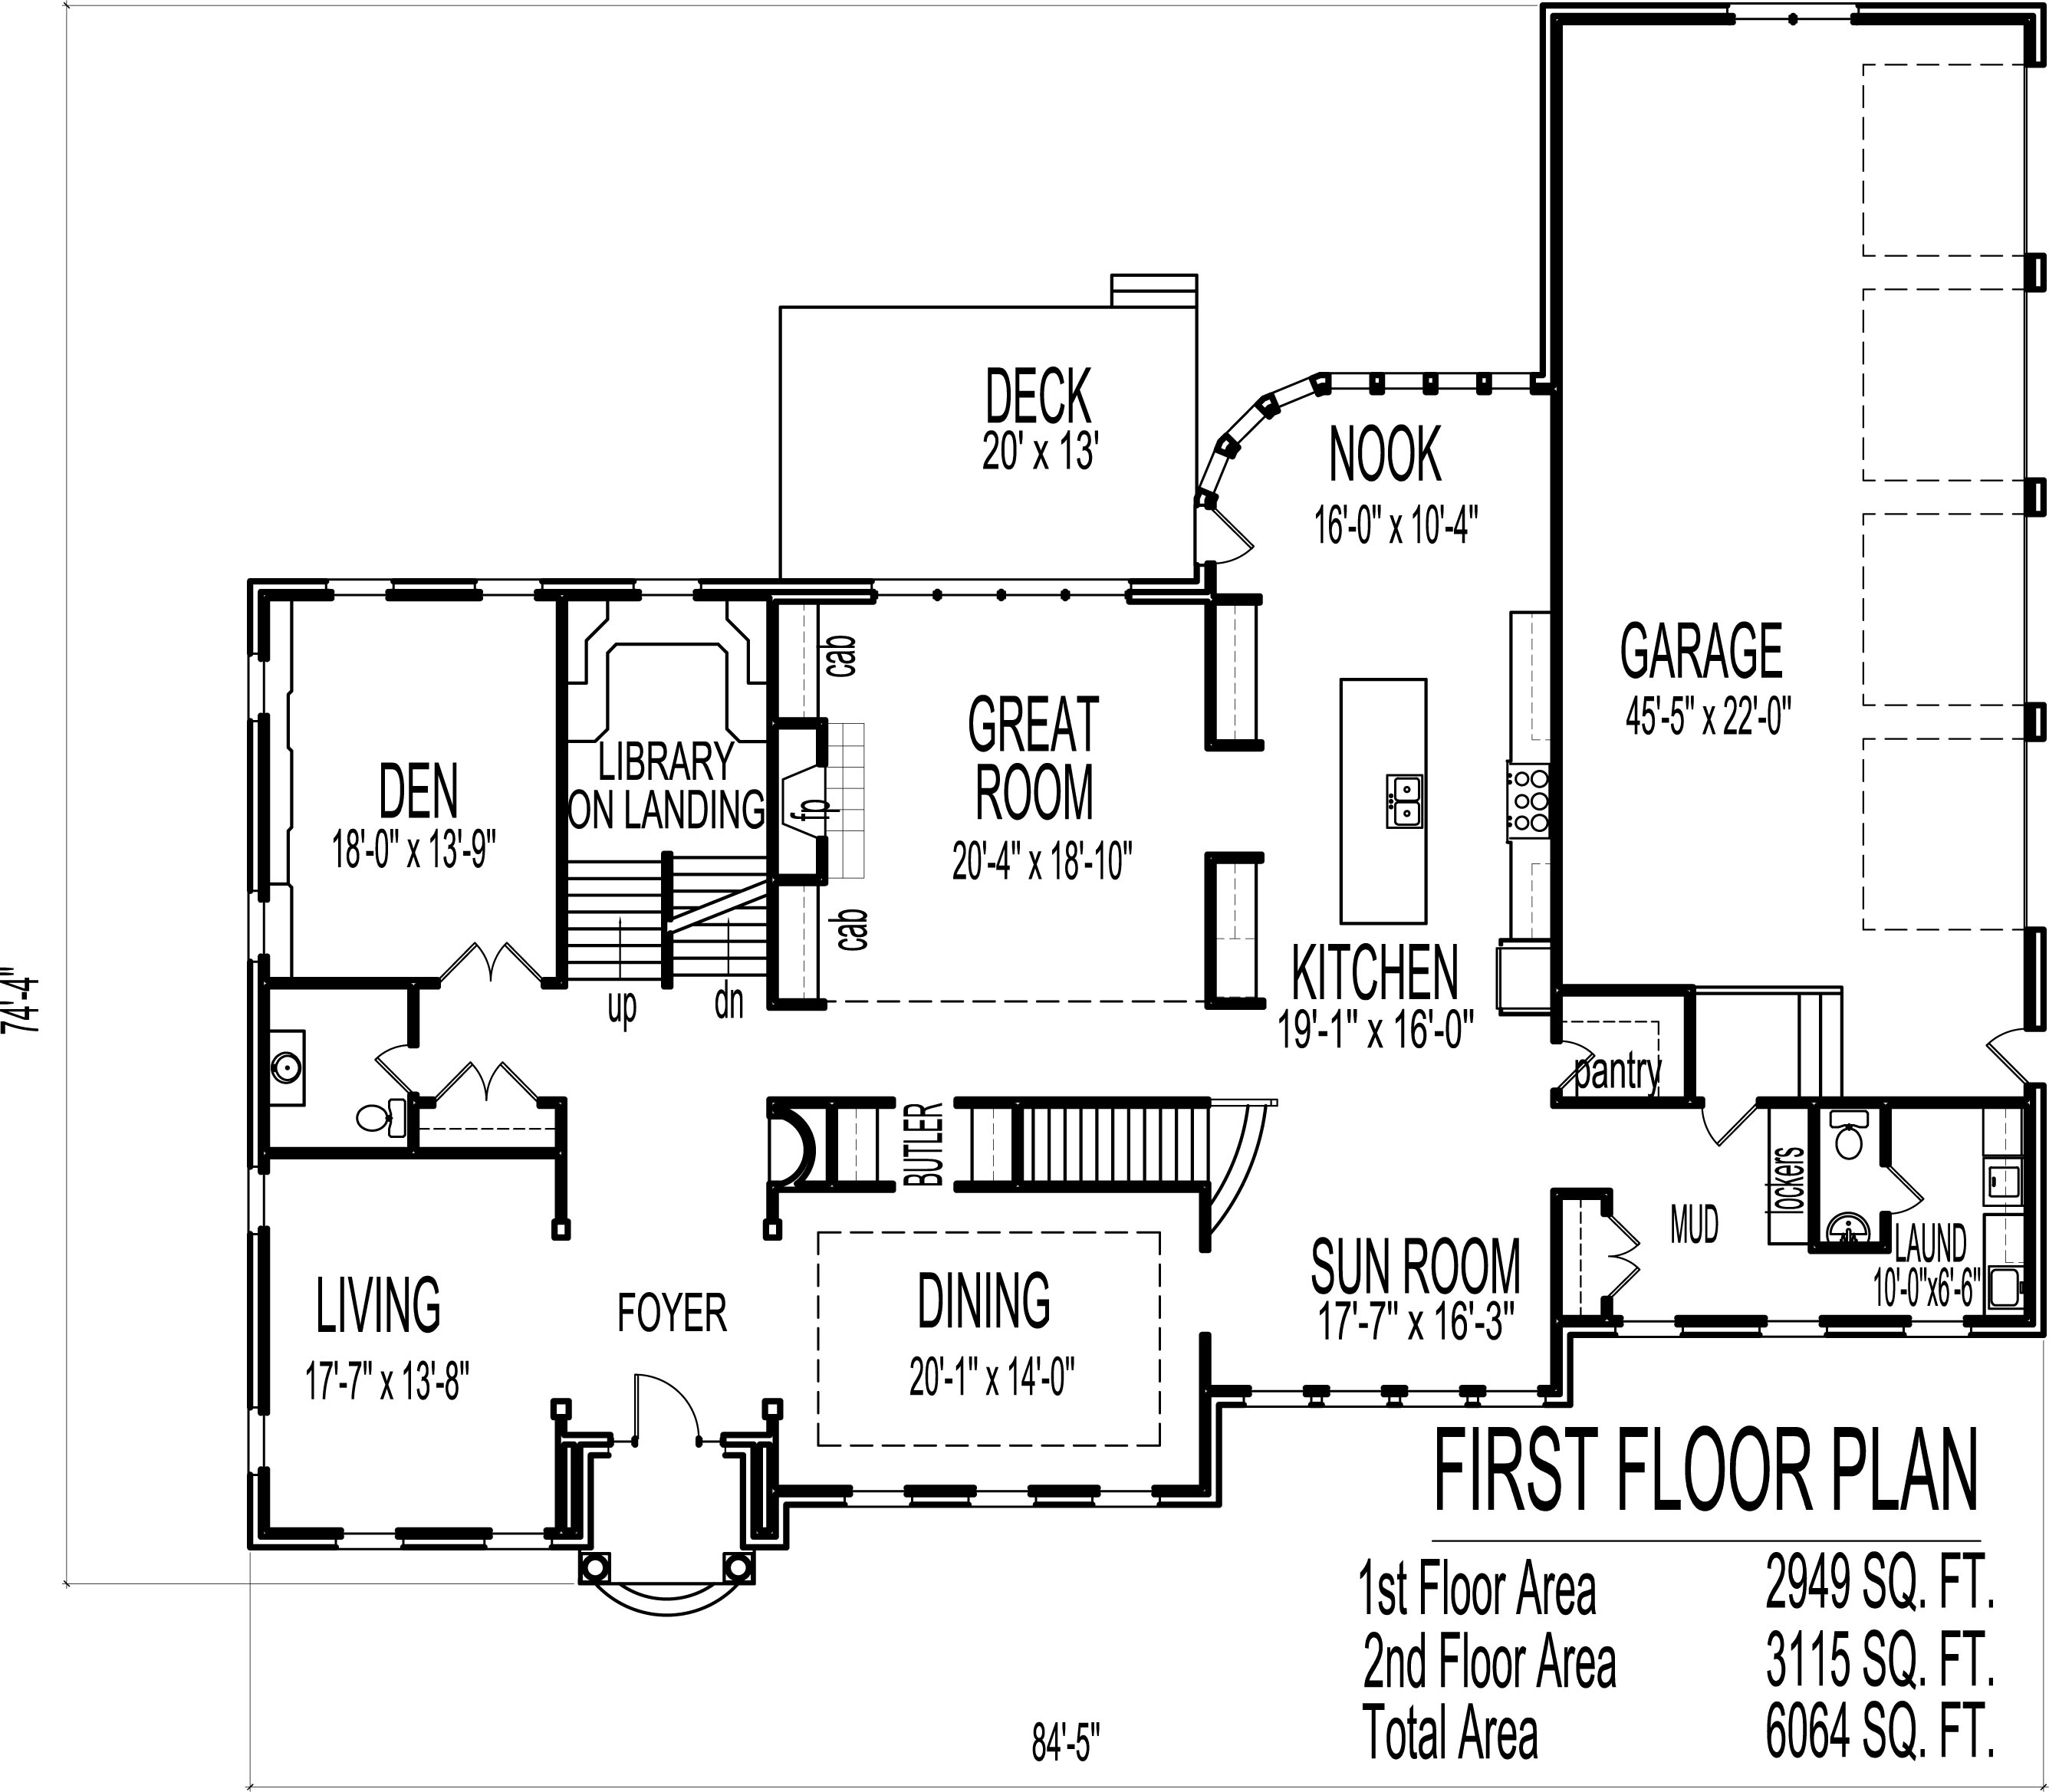room: (1303, 1388, 1328, 1405), (1382, 1386, 1403, 1405), (1460, 1388, 1486, 1402)
wall: (1537, 26, 1563, 395), (1549, 390, 1565, 980), (2023, 1085, 2046, 1322), (556, 597, 570, 980), (244, 1229, 272, 1412), (739, 1432, 782, 1541), (1856, 2, 2049, 26), (556, 597, 568, 975), (554, 1435, 596, 1543), (244, 717, 268, 897), (251, 967, 274, 1158), (1542, 5, 1730, 26), (774, 576, 875, 604), (1021, 1095, 1207, 1109), (265, 977, 418, 993), (1206, 559, 1218, 754), (1807, 1109, 1822, 1256), (390, 576, 483, 601), (767, 728, 781, 879), (404, 1526, 486, 1550), (1549, 982, 1692, 996), (1676, 1317, 1763, 1339), (1822, 1315, 1908, 1337), (1204, 1386, 1223, 1482), (268, 1526, 340, 1550), (1558, 1097, 1701, 1109), (249, 578, 331, 599), (765, 883, 779, 1005), (1549, 1336, 1575, 1400), (779, 1485, 847, 1510), (544, 578, 638, 596), (247, 1477, 270, 1548), (1024, 1182, 1207, 1191), (1964, 1317, 2044, 1336), (1206, 860, 1216, 1007), (274, 1148, 416, 1158), (1552, 1200, 1565, 1320), (700, 583, 775, 601), (415, 1149, 561, 1158), (1035, 1485, 1099, 1505), (1877, 1102, 1896, 1167), (247, 601, 270, 655), (1892, 1097, 2030, 1106), (826, 1094, 838, 1189), (1685, 993, 1695, 1102), (908, 1485, 972, 1503), (551, 1155, 565, 1235), (768, 601, 777, 726), (1160, 1487, 1216, 1506), (1812, 1242, 1887, 1256), (1552, 1317, 1619, 1332), (2023, 28, 2049, 66), (406, 991, 423, 1048), (767, 1095, 843, 1108), (1758, 1097, 1822, 1111), (781, 996, 828, 1014), (552, 1109, 568, 1158), (1016, 1106, 1024, 1193), (957, 1181, 1018, 1193), (765, 1182, 835, 1193), (815, 834, 831, 879), (1200, 1195, 1213, 1252), (1197, 1334, 1211, 1383), (767, 1182, 779, 1238), (775, 719, 829, 731), (1216, 1384, 1248, 1405), (1214, 596, 1267, 608), (1216, 738, 1267, 751), (1218, 998, 1268, 1010), (411, 1092, 422, 1149), (779, 874, 828, 886), (1552, 1189, 1601, 1202), (955, 1099, 1018, 1108), (1204, 853, 1261, 862), (1819, 1097, 1890, 1104), (415, 977, 443, 994), (838, 1181, 890, 1189), (819, 726, 829, 765), (1883, 1210, 1892, 1254), (723, 1438, 740, 1459), (1599, 1294, 1613, 1320), (840, 1101, 889, 1108), (544, 977, 570, 989), (538, 1095, 565, 1108), (418, 1092, 436, 1108), (596, 1433, 610, 1452), (1538, 1384, 1558, 1398), (1603, 1188, 1612, 1216), (1552, 1090, 1565, 1109)
